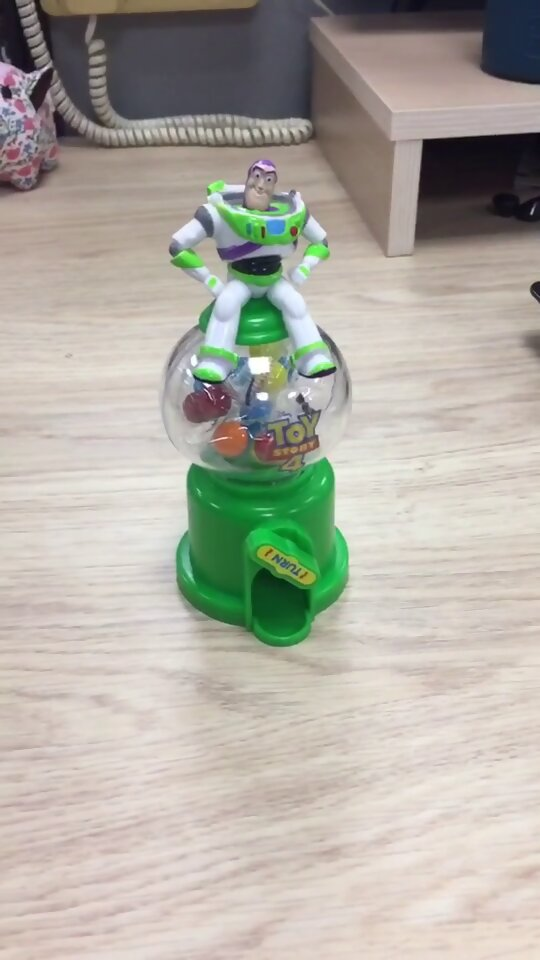buzz: (153, 155, 369, 659)
